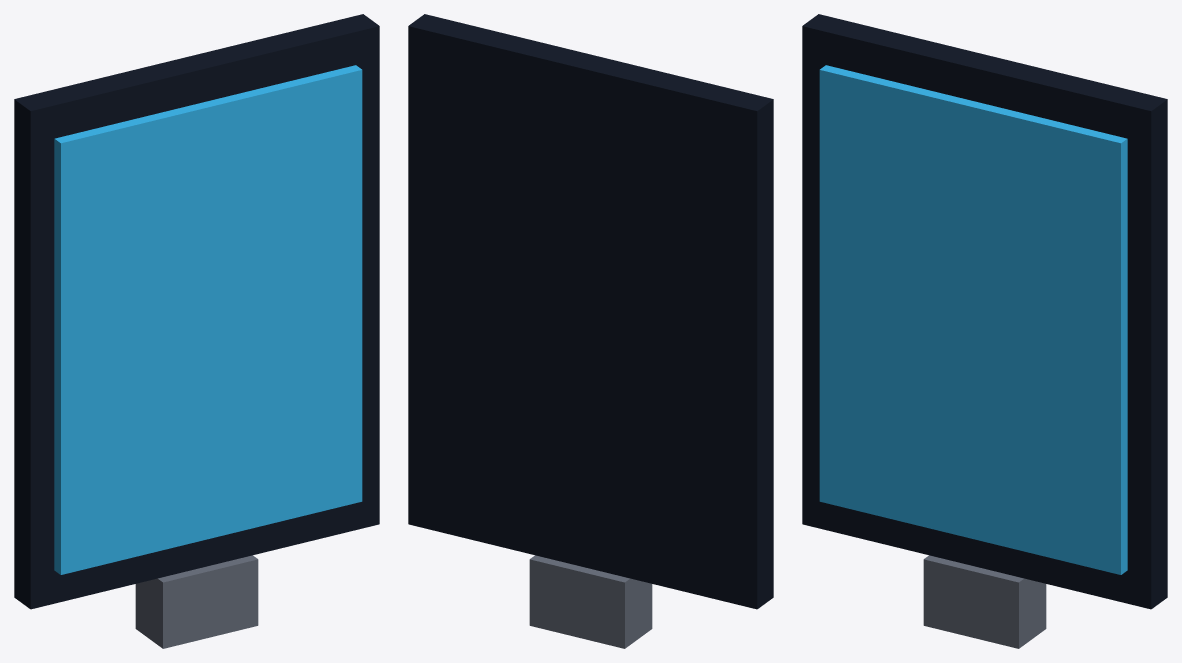
Rendered from parametric-source.glb.
3 views of the same model, side by side, from view 1: azimuth 30°, elevation 25°; view 2: azimuth 150°, elevation 25°; view 3: azimuth 330°, elevation 25° (orthographic).
Visible parts, largest first — view 1: openclinxr.equipment.tablet_visit_equipment.display, openclinxr.equipment.tablet_visit_equipment.bezel, openclinxr.equipment.tablet_visit_equipment.hand_grip; view 2: openclinxr.equipment.tablet_visit_equipment.bezel, openclinxr.equipment.tablet_visit_equipment.hand_grip; view 3: openclinxr.equipment.tablet_visit_equipment.display, openclinxr.equipment.tablet_visit_equipment.bezel, openclinxr.equipment.tablet_visit_equipment.hand_grip.
Part boxes in pixels (x1=…): openclinxr.equipment.tablet_visit_equipment.display: x1=54, y1=65, x2=362, y2=574; openclinxr.equipment.tablet_visit_equipment.bezel: x1=14, y1=14, x2=379, y2=609; openclinxr.equipment.tablet_visit_equipment.hand_grip: x1=135, y1=555, x2=258, y2=648; openclinxr.equipment.tablet_visit_equipment.bezel: x1=408, y1=14, x2=773, y2=609; openclinxr.equipment.tablet_visit_equipment.hand_grip: x1=529, y1=555, x2=652, y2=648; openclinxr.equipment.tablet_visit_equipment.display: x1=819, y1=65, x2=1127, y2=574; openclinxr.equipment.tablet_visit_equipment.bezel: x1=802, y1=14, x2=1167, y2=609; openclinxr.equipment.tablet_visit_equipment.hand_grip: x1=923, y1=555, x2=1046, y2=648.
Bounding box in the file's own units: 0.22 × 0.34 × 0.031.
